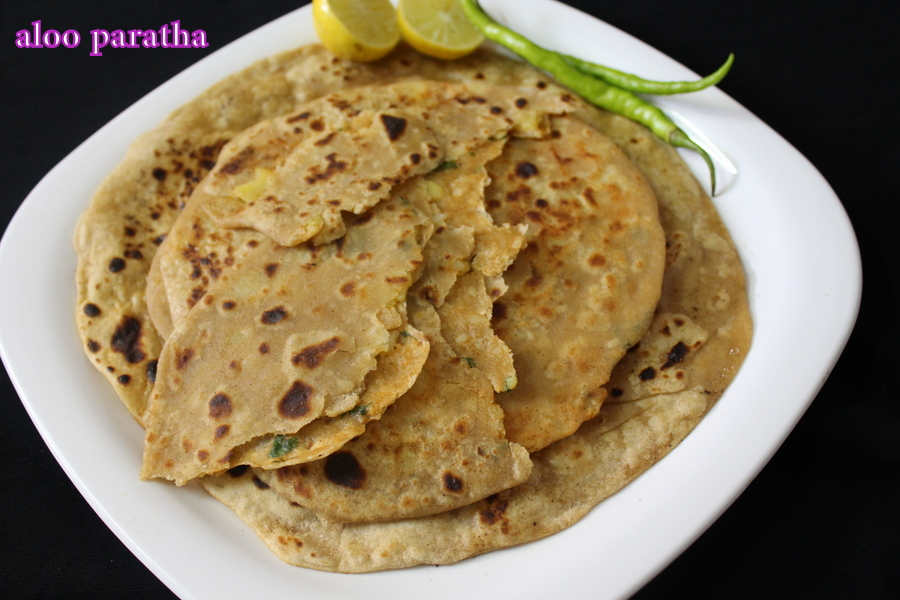aloo_paratha: (74, 46, 756, 574)
